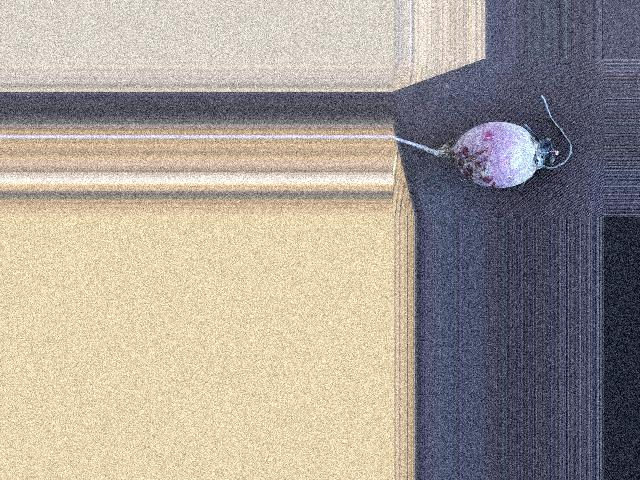beet: (391, 95, 571, 189)
